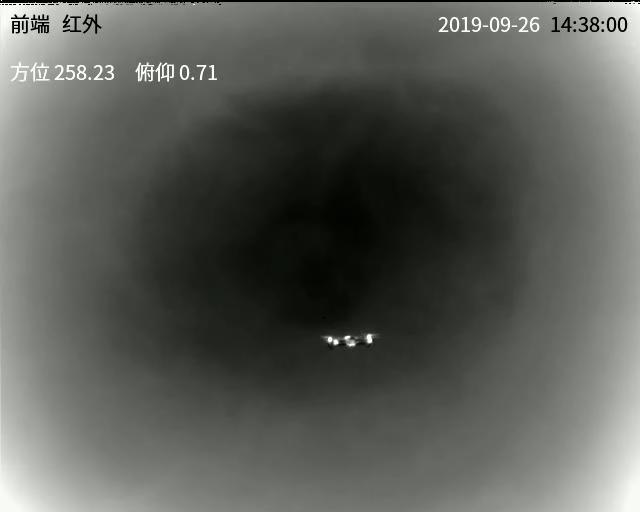uav: (319, 327, 379, 350)
